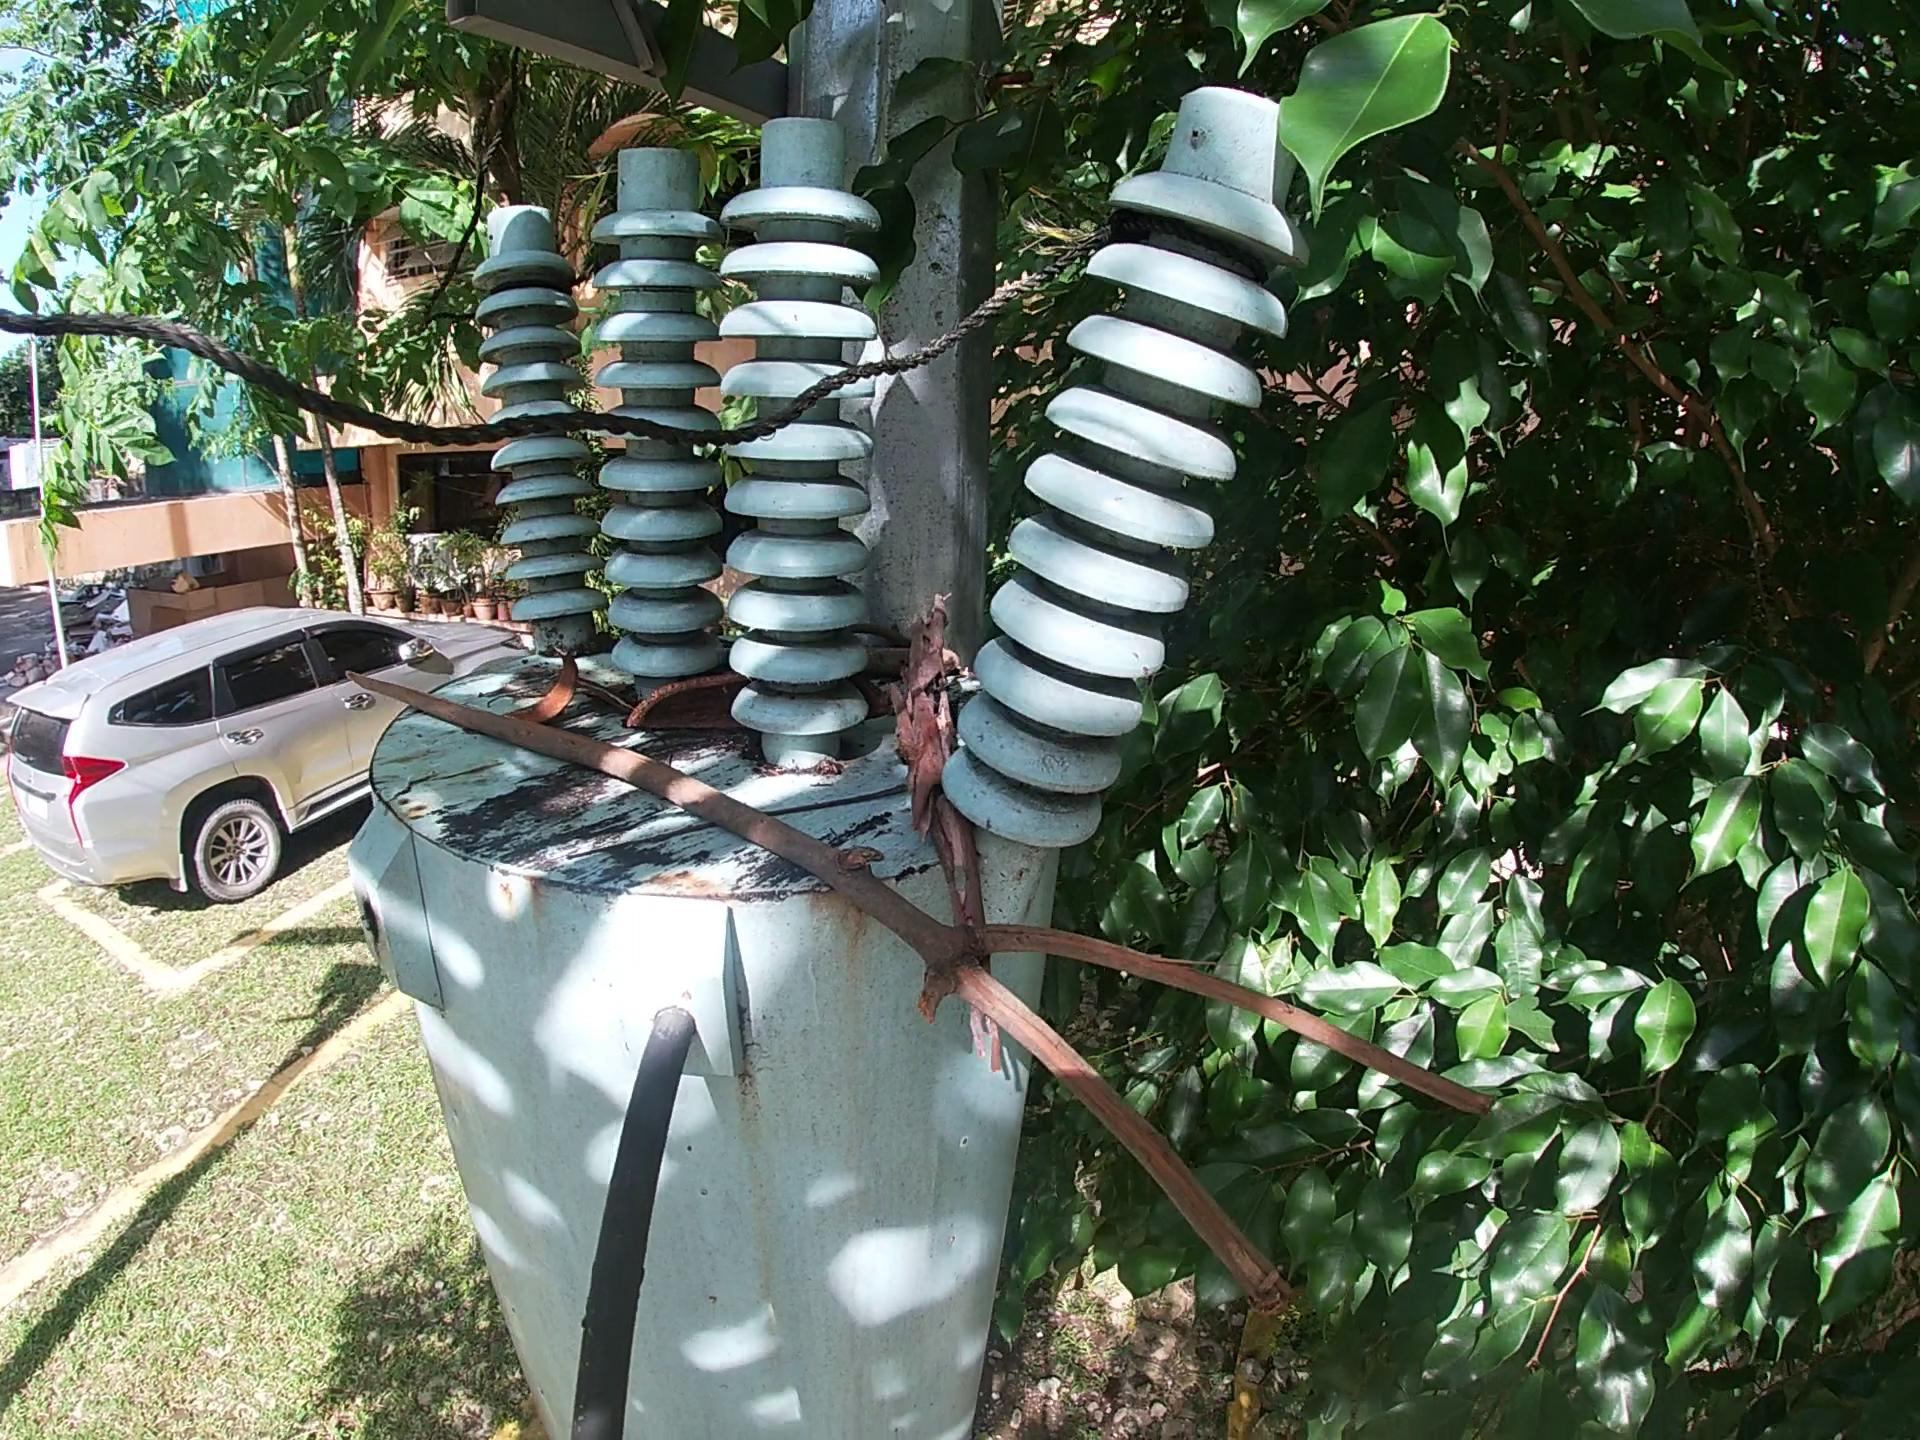mahogany fruit: (612, 666, 895, 740), (513, 649, 585, 723)
tree branch: (325, 658, 1504, 1317), (883, 597, 1011, 1085), (862, 644, 968, 676), (844, 622, 913, 646)
